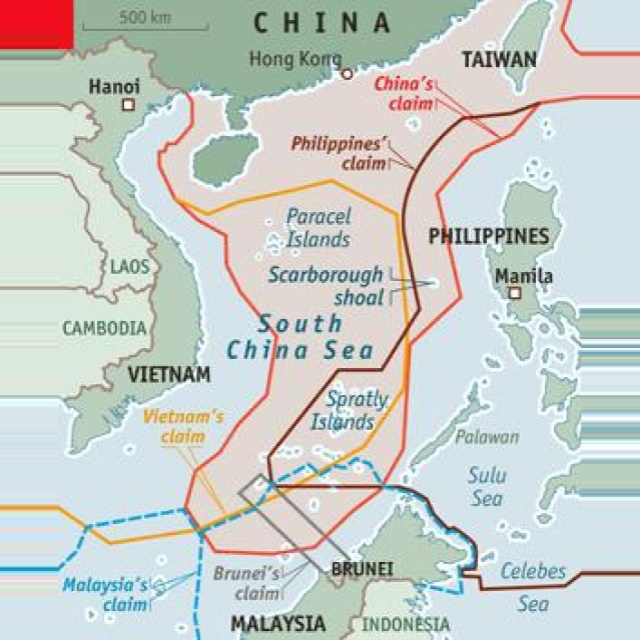Nine Dash Line: (134, 54, 584, 579)
